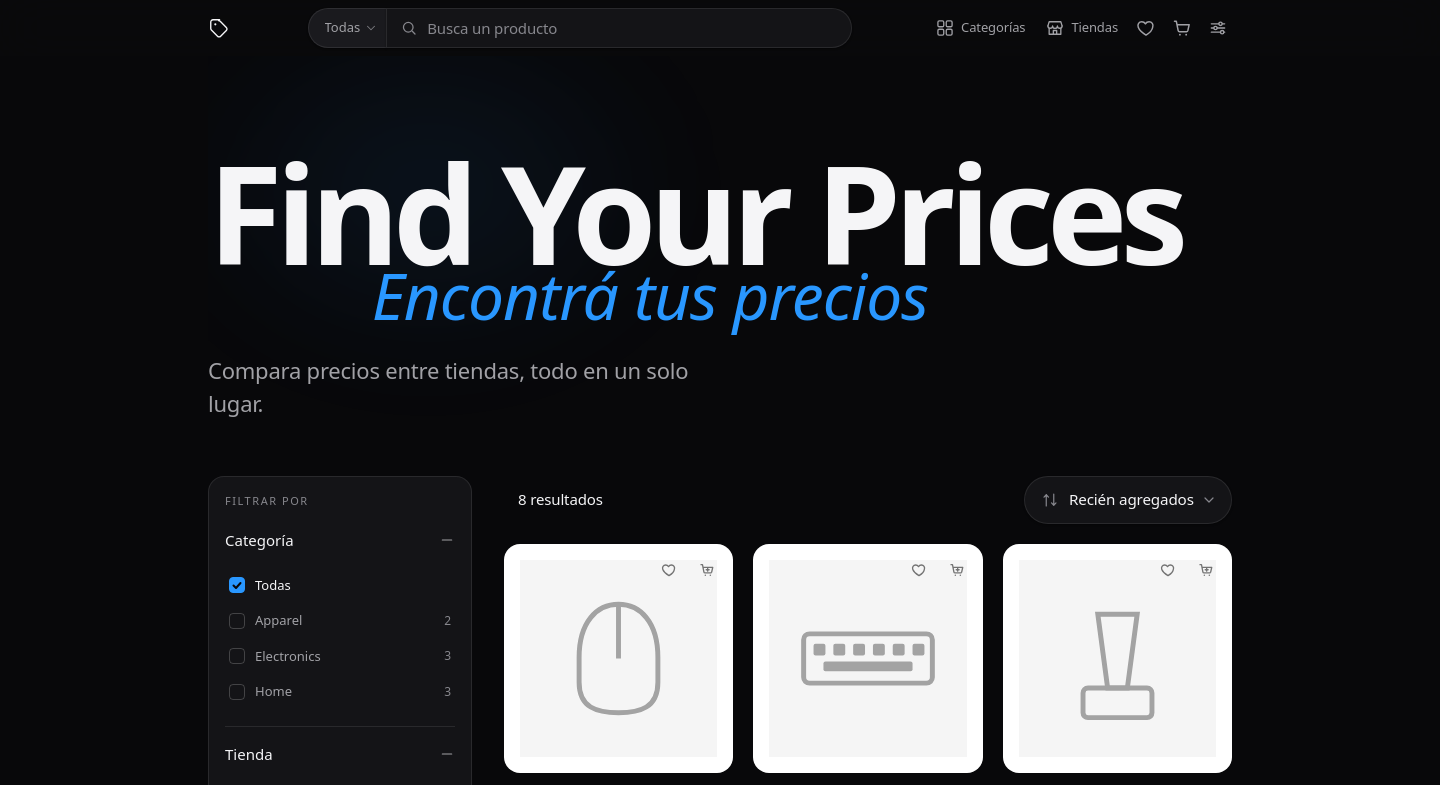
Test case: Home / (español, default) › contrato de accesibilidad › expone un LocaleSwitcher con enlaces EN/ES alcanzables por nombre
What coordinates should you click on to do the following:
click the button named "Preferencias"
I would click on:
 (1218, 28)
Its box is [1200,10,1236,46].
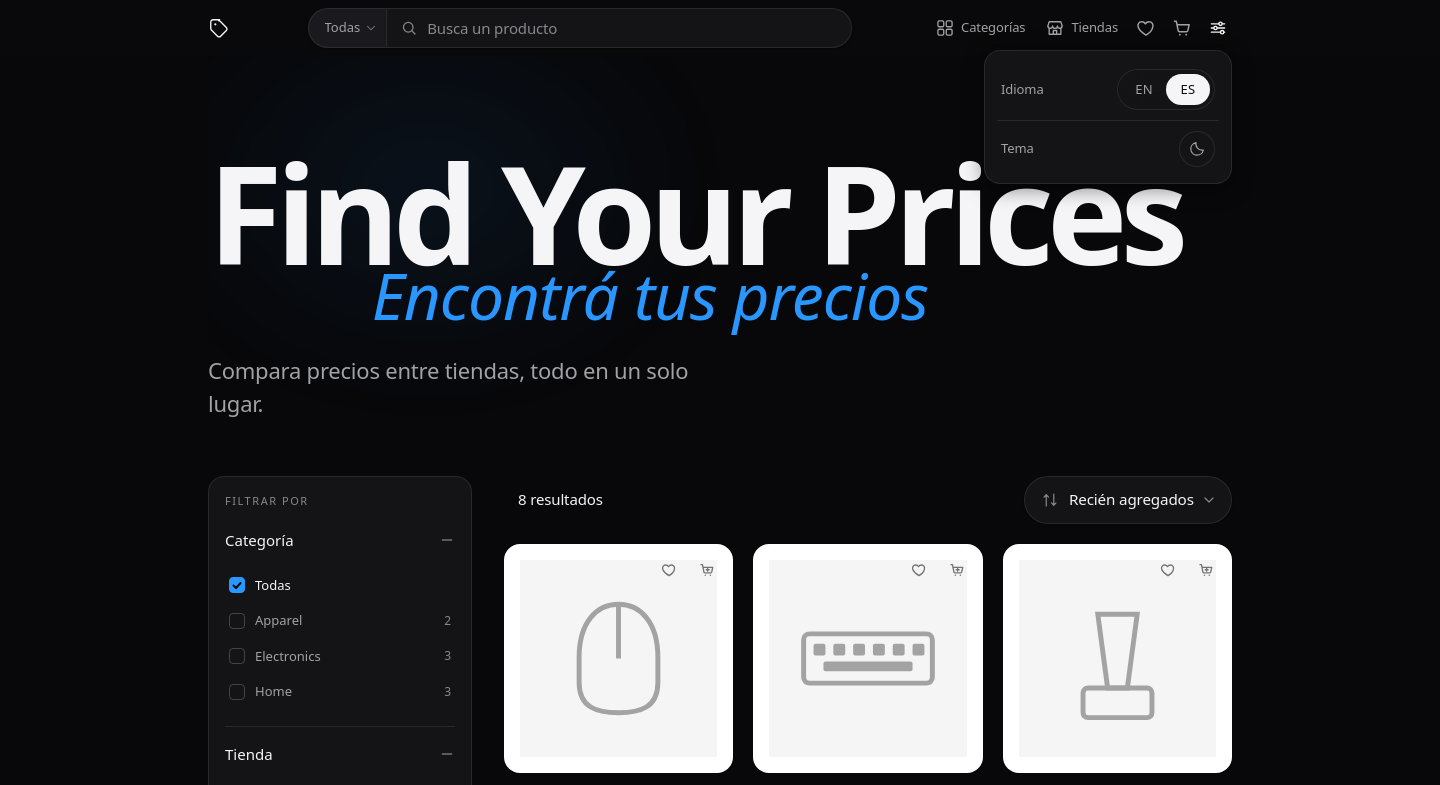
expect the link "EN" is shown: met, box [1135,80,1153,98]
expect the link "ES" is shown: met, box [1180,80,1195,98]
